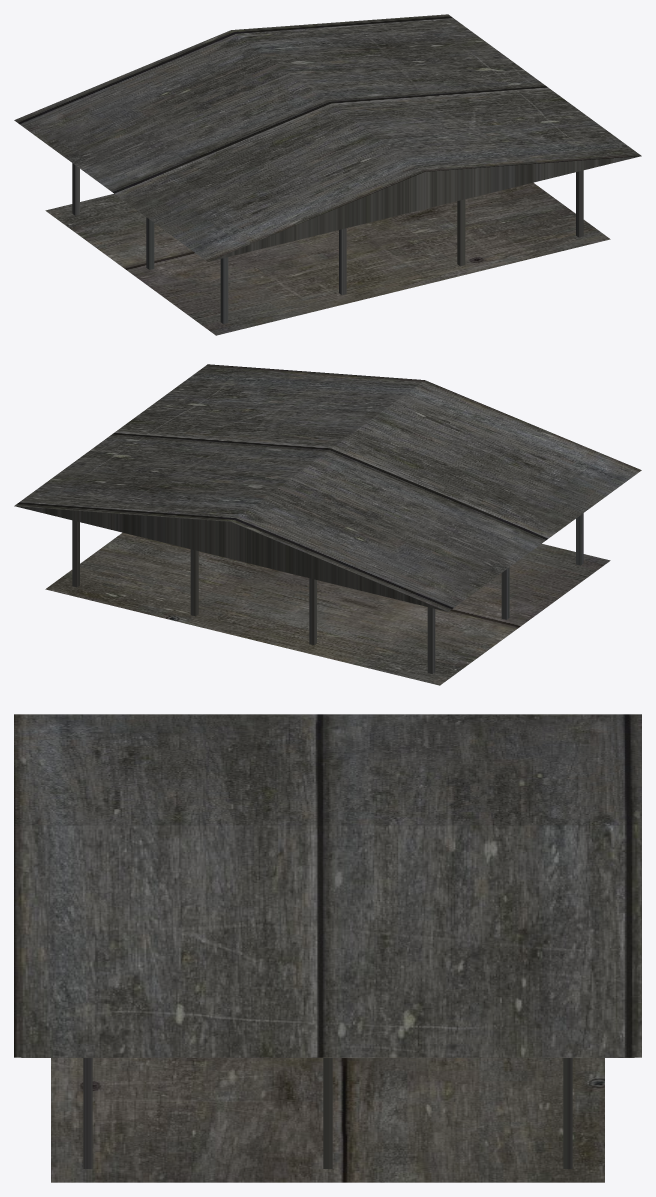
File: market_hall.glb
3 renders of one model, top to bottom at view 1: azimuth 30°, elevation 25°; view 2: azimuth 150°, elevation 25°; view 3: azimuth 270°, elevation 25°, orthographic. The views are drawn at different scales.
Parts seen in each view (by area): view 1: MarketHall; view 2: MarketHall; view 3: MarketHall.
Boxes of the visible parts, box(x1,y1,x2,y2) form: MarketHall: box(14, 14, 641, 335); MarketHall: box(14, 364, 641, 685); MarketHall: box(14, 714, 641, 1182).
Bounding box in the file's own units: 22 × 6 × 17.
1 material, 1 textured.
